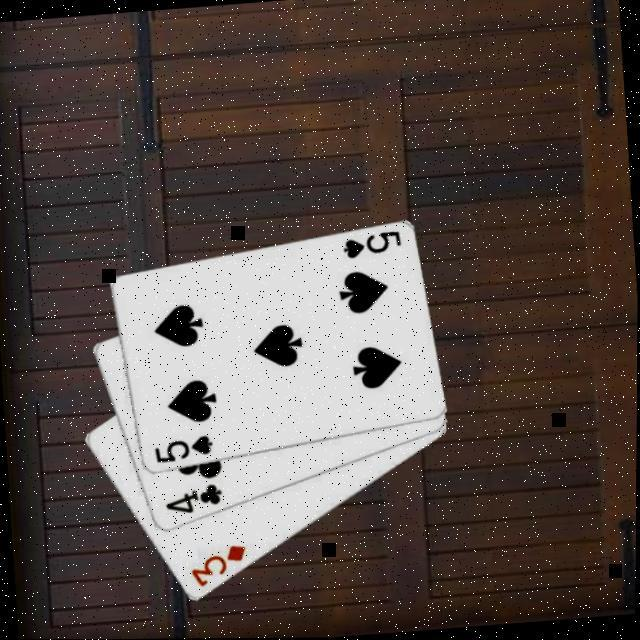3D: (184, 543, 249, 593)
4C: (160, 482, 223, 520)
5S: (148, 434, 214, 468), (336, 230, 402, 264)
